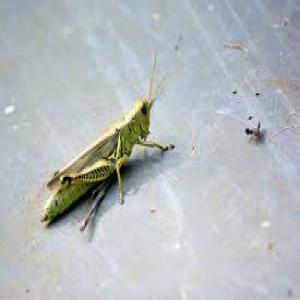locust: (35, 62, 171, 237)
